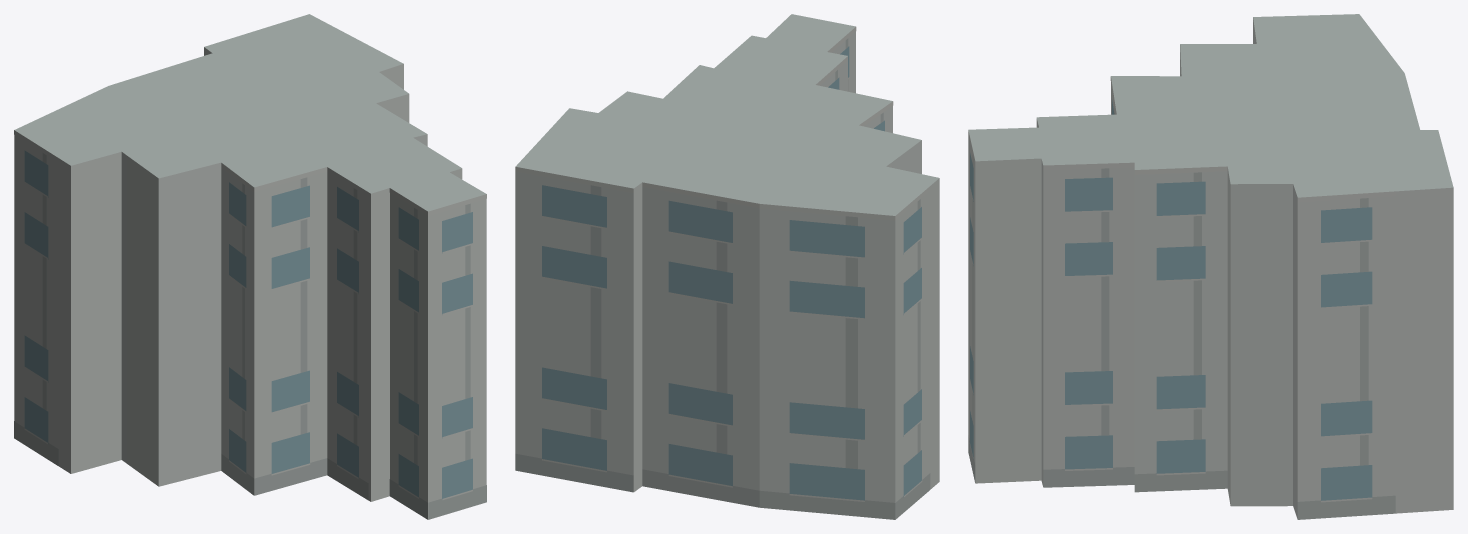
File: survey-upis-32487118.glb
3 renders of one model, left to right at view 1: azimuth 30°, elevation 25°; view 2: azimuth 150°, elevation 25°; view 3: azimuth 270°, elevation 25°, orthographic. The views are drawn at different scales.
Visible parts, largest first — view 1: survey-upis-32487118.tmp; view 2: survey-upis-32487118.tmp; view 3: survey-upis-32487118.tmp.
Part boxes in pixels (box(x1,y1,x2,y2)): survey-upis-32487118.tmp: box(14, 14, 486, 519); survey-upis-32487118.tmp: box(515, 14, 939, 519); survey-upis-32487118.tmp: box(968, 14, 1453, 519).
Bounding box in the file's own units: 19.57 × 16 × 21.85.
